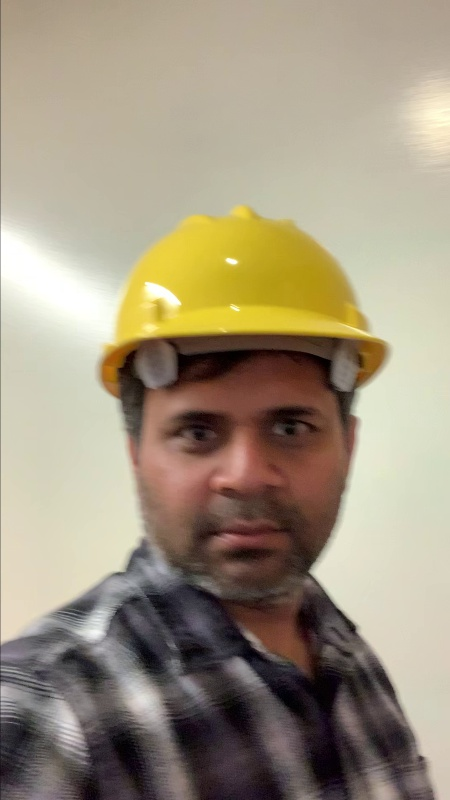helmet: (104, 205, 372, 339)
